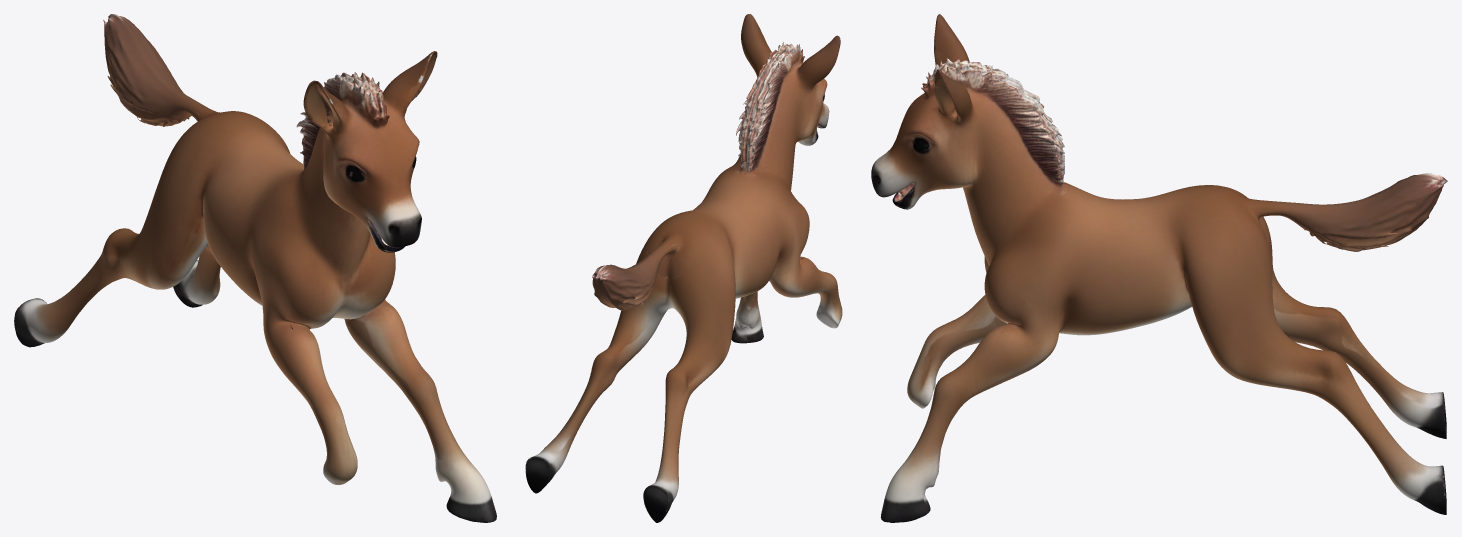
Rendered from foal_playing.glb.
3 renders of one model, left to right at view 1: azimuth 30°, elevation 25°; view 2: azimuth 150°, elevation 25°; view 3: azimuth 270°, elevation 25°, orthographic. The views are drawn at different scales.
Visible parts, largest first — view 1: model; view 2: model; view 3: model.
Boxes of the visible parts, x1,y1,x2,y2 form: model: (14, 14, 496, 522); model: (525, 14, 842, 522); model: (871, 14, 1447, 522).
Size of the model in its own units: 0.7028 by 1.57 by 1.89.
Materials: 1 (1 with a texture image).
